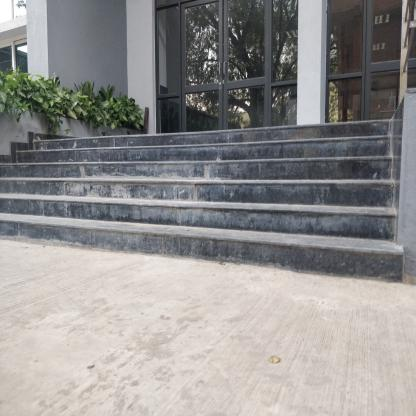stairs: (31, 133, 381, 256)
